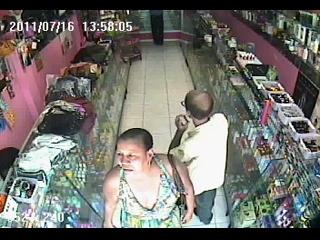Normal: (102, 128, 195, 228), (167, 90, 229, 226)
